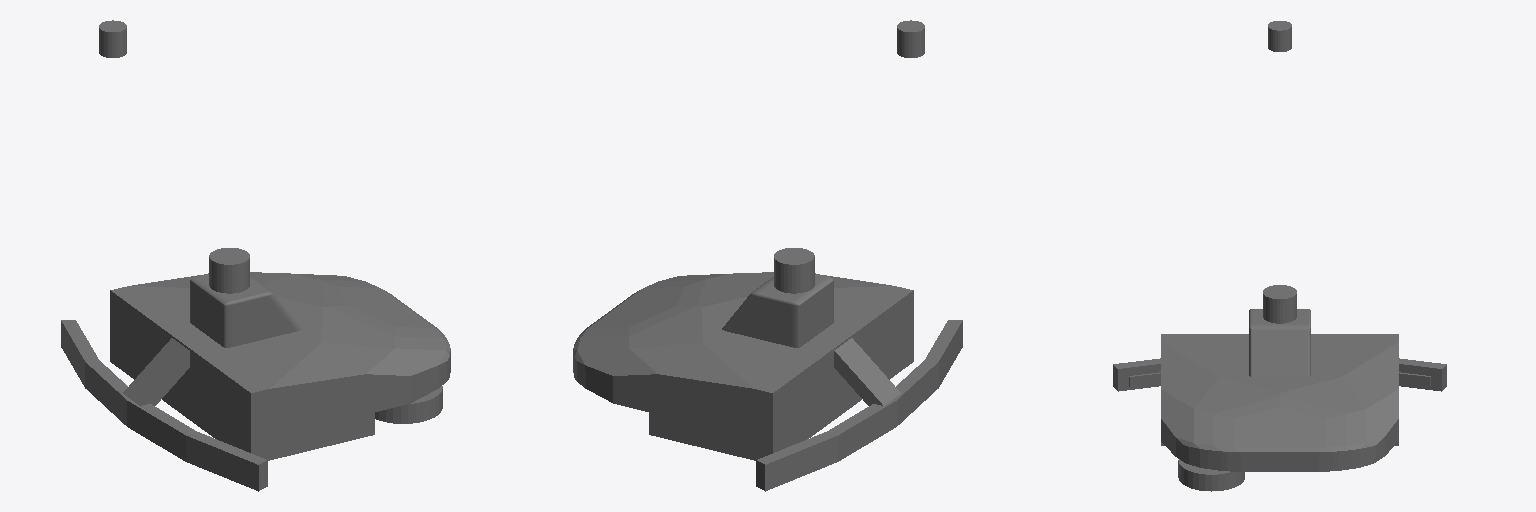
robot.urdf — my_robot:
<?xml version="1.0"?>
<robot name="my_robot">
  <material name="gray">
    <color rgba="0.5 0.5 0.5 1.0"/>
  </material>
  <link name="base_link">
    <visual>
      <geometry>
        <mesh filename="package://my_robot_description/models/Oberteil.stl"/>
      </geometry>
      <origin xyz="0 -0.025 0" rpy="0 0 0"/>
      <material name="gray"/>
    </visual>
  </link>

  <link name="base_wheel_left">
    <visual>
      <geometry>
        <mesh filename="package://my_robot_description/models/Rad_links.stl"/>
      </geometry>
      <origin xyz="0 0 0" rpy="0 0 0"/>
      <material name="gray"/>
    </visual>
  </link>

  <link name="base_wheel_right">
    <visual>
      <geometry>
        <mesh filename="package://my_robot_description/models/Rad_rechts.stl"/>
      </geometry>
      <origin xyz="0 0 0" rpy="0 0 0"/>
      <material name="gray"/>
    </visual>
  </link>

  <link name="base_lidar">
    <visual>
      <geometry>
        <mesh filename="package://my_robot_description/models/Lidar.stl"/>
      </geometry>
      <origin xyz="0 0 0" rpy="0 0 0"/>
      <material name="gray"/>
    </visual>
  </link>

  <link name="small_base">
    <visual>
      <geometry>
        <mesh filename="package://my_robot_description/models/Unterteil.stl"/>
      </geometry>
      <origin xyz="0 0 0" rpy="0 0 0"/>
      <material name="gray"/>
    </visual>
  </link>

  <link name="small_base_wheel_front">
    <visual>
      <geometry>
        <mesh filename="package://my_robot_description/models/Rad_vorne.stl"/>
      </geometry>
      <origin xyz="0 0 0" rpy="0 0 0"/>
      <material name="gray"/>
    </visual>
  </link>

  <link name="small_base_brush_left">
    <visual>
      <geometry>
        <mesh filename="package://my_robot_description/models/Buerste_links.stl"/>
      </geometry>
      <origin xyz="0 0 0" rpy="0 0 0"/>
      <material name="gray"/>
    </visual>
  </link>

  <link name="small_base_brush_right">
    <visual>
      <geometry>
        <mesh filename="package://my_robot_description/models/Buerste_rechts.stl"/>
      </geometry>
      <origin xyz="0 0 0" rpy="0 0 0"/>
      <material name="gray"/>
    </visual>
  </link>

  <joint name="wheel_left_to_base" type="continuous">
    <parent link="base_link"/>
    <child link="base_wheel_left"/>
    <origin xyz="-1.59 0.65 0.26" rpy="0 0 0"/>
    <axis xyz="0 1 0"/>
  </joint>

  <joint name="wheel_right_to_base" type="continuous">
    <parent link="base_link"/>
    <child link="base_wheel_right"/>
    <origin xyz="-1.59 -0.65 0.26" rpy="0 0 0"/>
    <axis xyz="0 1 0"/>
  </joint>

  <joint name="lidar_to_base" type="fixed">
    <parent link="base_link"/>
    <child link="base_lidar"/>
    <origin xyz="-0.77 0 3.05" rpy="0 0 0"/>
    <axis xyz="1 0 0"/> 
  </joint>

  <joint name="small_base_to_base" type="continuous">
    <parent link="base_link"/>
    <child link="small_base"/>
    <origin xyz="0.15 0 1.3" rpy="0 0 0"/>
    <axis xyz="1 0 0"/> 
  </joint>

  <joint name="wheel_front_to_small_base" type="continuous">
    <parent link="small_base"/>
    <child link="small_base_wheel_front"/>
    <origin xyz="-0.12 0 -1.04" rpy="0 0 0"/>
    <axis xyz="0 1 0"/> 
  </joint>

  <joint name="brush_left_to_small_base" type="continuous">
    <parent link="small_base"/>
    <child link="small_base_brush_left"/>
    <origin xyz="1.05 0.55 -0.925" rpy="0 0 0"/>
    <axis xyz="1 0 0"/> 
  </joint>

  <joint name="brush_right_to_small_base" type="continuous">
    <parent link="small_base"/>
    <child link="small_base_brush_right"/>
    <origin xyz="1.05 -0.55 -0.925" rpy="0 0 0"/>
    <axis xyz="1 0 0"/> 
  </joint>
</robot>

--- Facts derived from the render (not from the file) ---
3 views of the same robot in one strip: view 1: azimuth 30°, elevation 25°; view 2: azimuth 150°, elevation 25°; view 3: azimuth 270°, elevation 25° (orthographic).
Model my_robot with 8 links and 7 joints (6 continuous, 1 fixed), rooted at base_link, posed all joints at 0.
Visible links, largest first — view 1: small_base, small_base_brush_right, base_lidar; view 2: small_base, base_lidar; view 3: small_base, small_base_brush_right, base_lidar.
Boxes of the visible links, x1=… form: small_base: x1=61, y1=248, x2=450, y2=491; small_base_brush_right: x1=375, y1=386, x2=442, y2=423; base_lidar: x1=99, y1=20, x2=126, y2=57; small_base: x1=573, y1=248, x2=962, y2=491; base_lidar: x1=897, y1=20, x2=924, y2=57; small_base: x1=1113, y1=285, x2=1446, y2=471; small_base_brush_right: x1=1178, y1=459, x2=1244, y2=491; base_lidar: x1=1268, y1=21, x2=1291, y2=51.
Size in the robot's own frame: 2.47 by 2.69 by 3.2 metres.
Meshes: 8 distinct files referenced, 4 mesh visuals loaded (4 binary STL); not drawn: 4 (reference not matched to a file when rendering).
